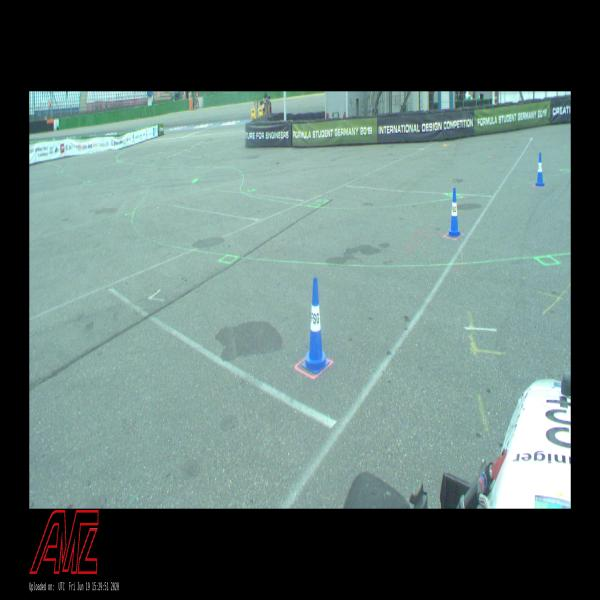blue_cone: (302, 277, 329, 374), (447, 188, 461, 237), (536, 152, 544, 186)
